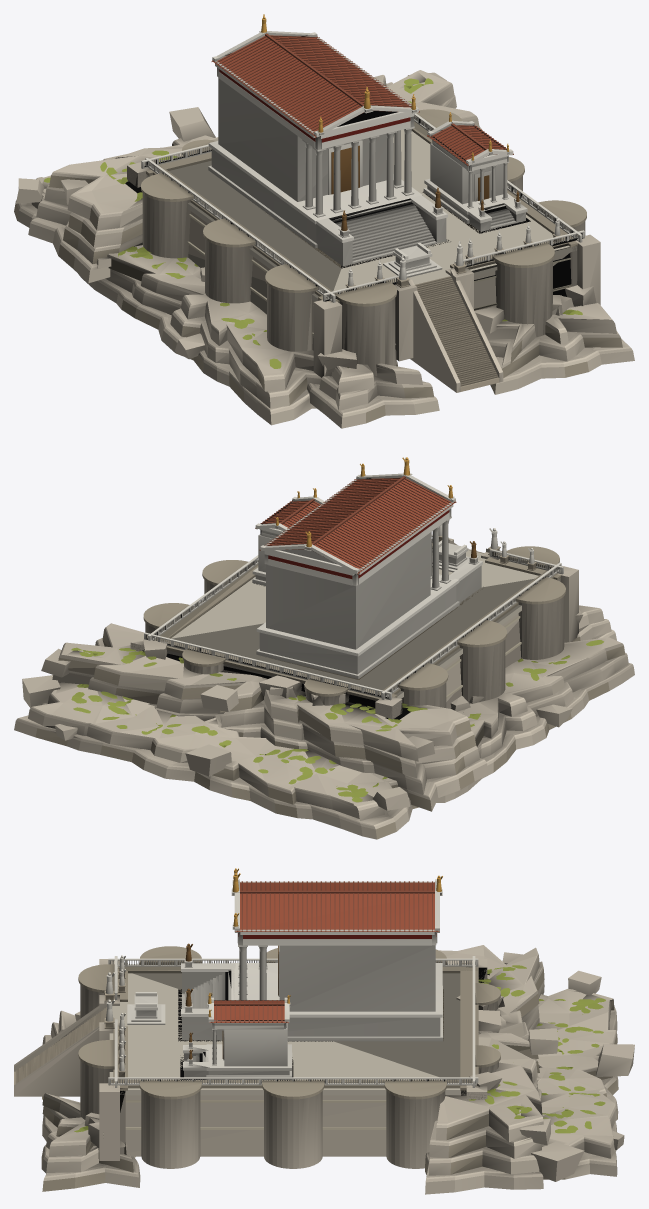
File: rome_victoria.glb
The picture shows the model from 3 angles, top to bottom: view 1: azimuth 30°, elevation 25°; view 2: azimuth 150°, elevation 25°; view 3: azimuth 270°, elevation 25°; orthographic projection. The views are drawn at different scales.
Visible parts, largest first — view 1: rome_victoria; view 2: rome_victoria; view 3: rome_victoria.
Boxes of the visible parts, x1=… form: rome_victoria: x1=14, y1=14, x2=634, y2=428; rome_victoria: x1=14, y1=457, x2=634, y2=839; rome_victoria: x1=14, y1=868, x2=634, y2=1194.
Size of the model in its own units: 65.92 by 36.19 by 84.5.
